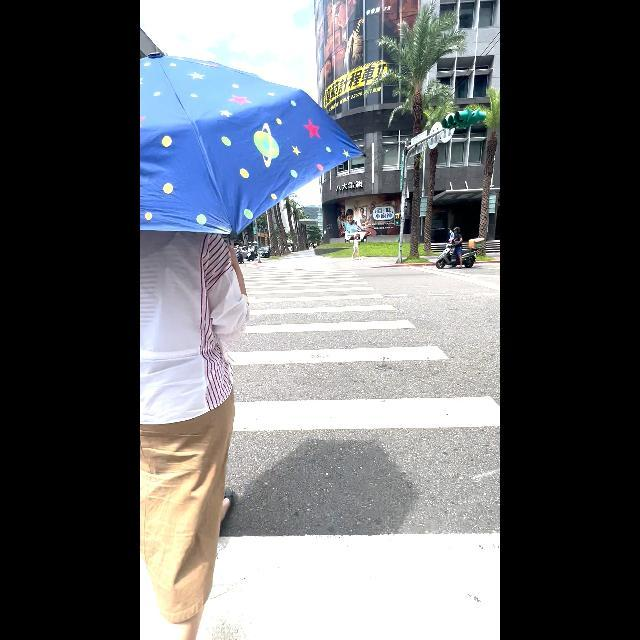sidewalk: (140, 261, 500, 640)
